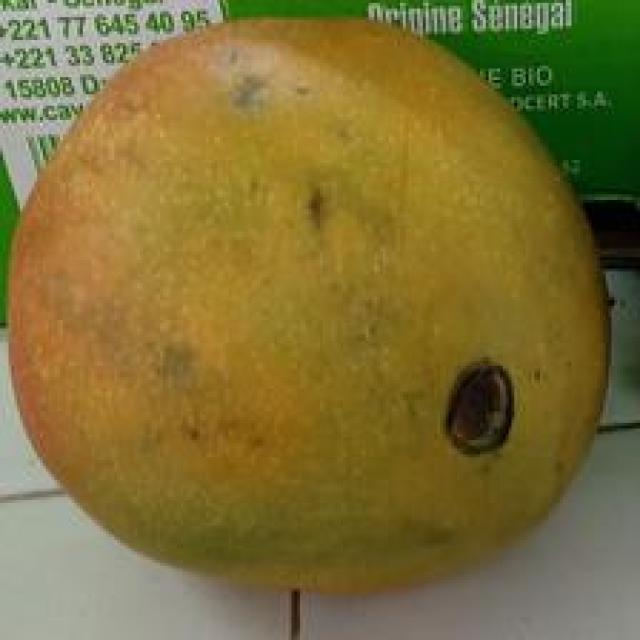Mango: (8, 25, 637, 584)
